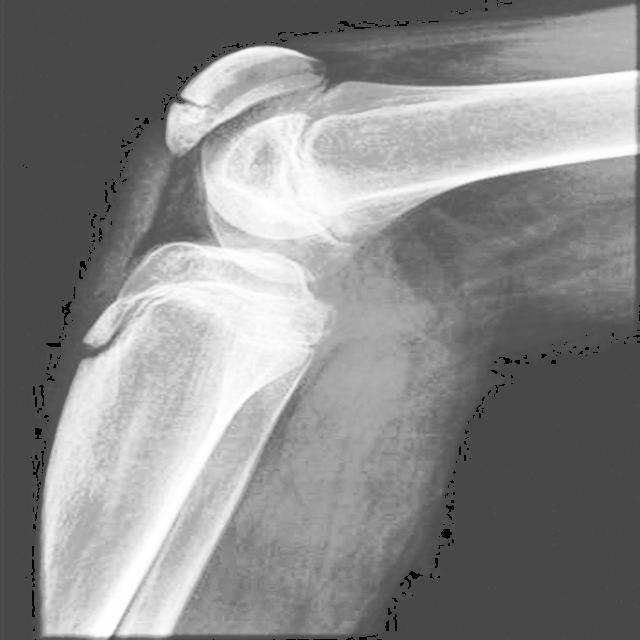GreenStick Fracture: (168, 78, 235, 142), (84, 297, 137, 364)
